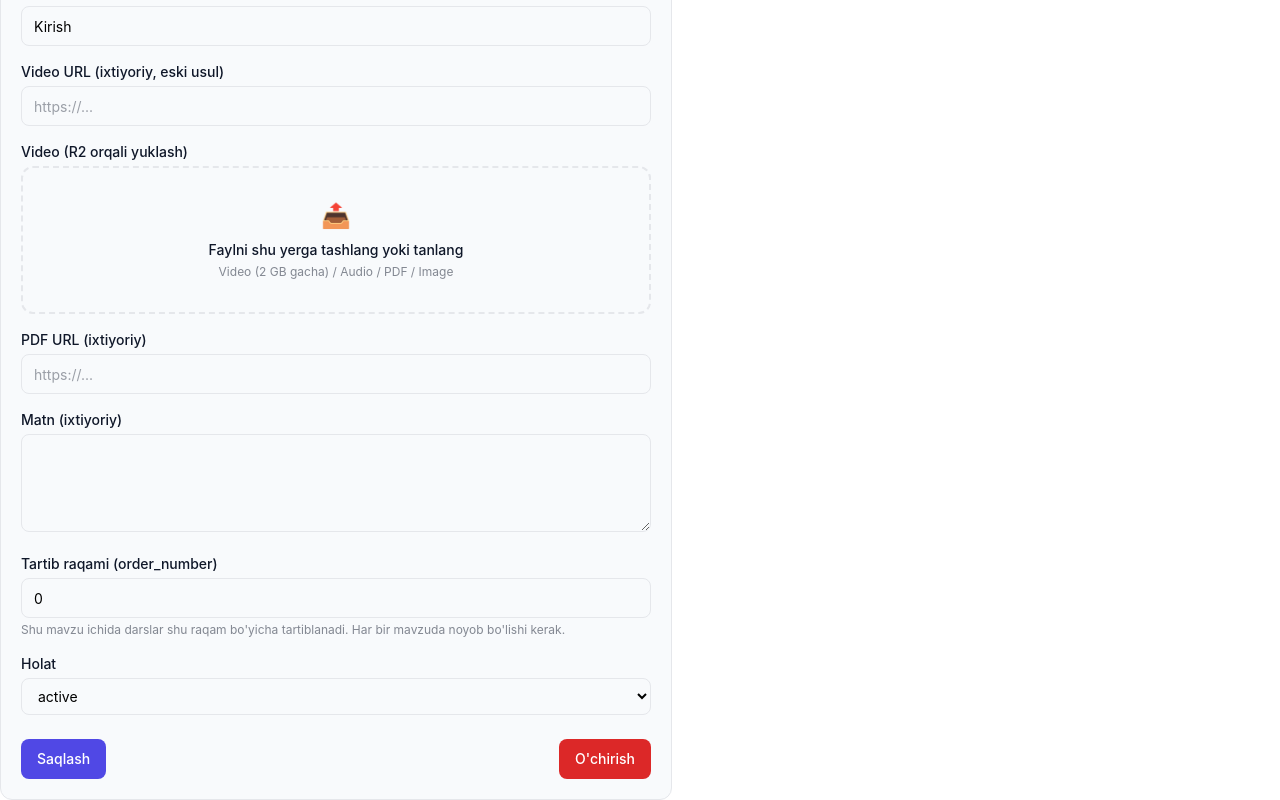
Test: LessonFormPage › approved decision 3: submit is never blocked, but shows the exact required message when video/pdf/content are all empty
(page scrolled)
Click the button "Saqlash" at [64, 759], box [21,739,106,779]
(page scrolled)
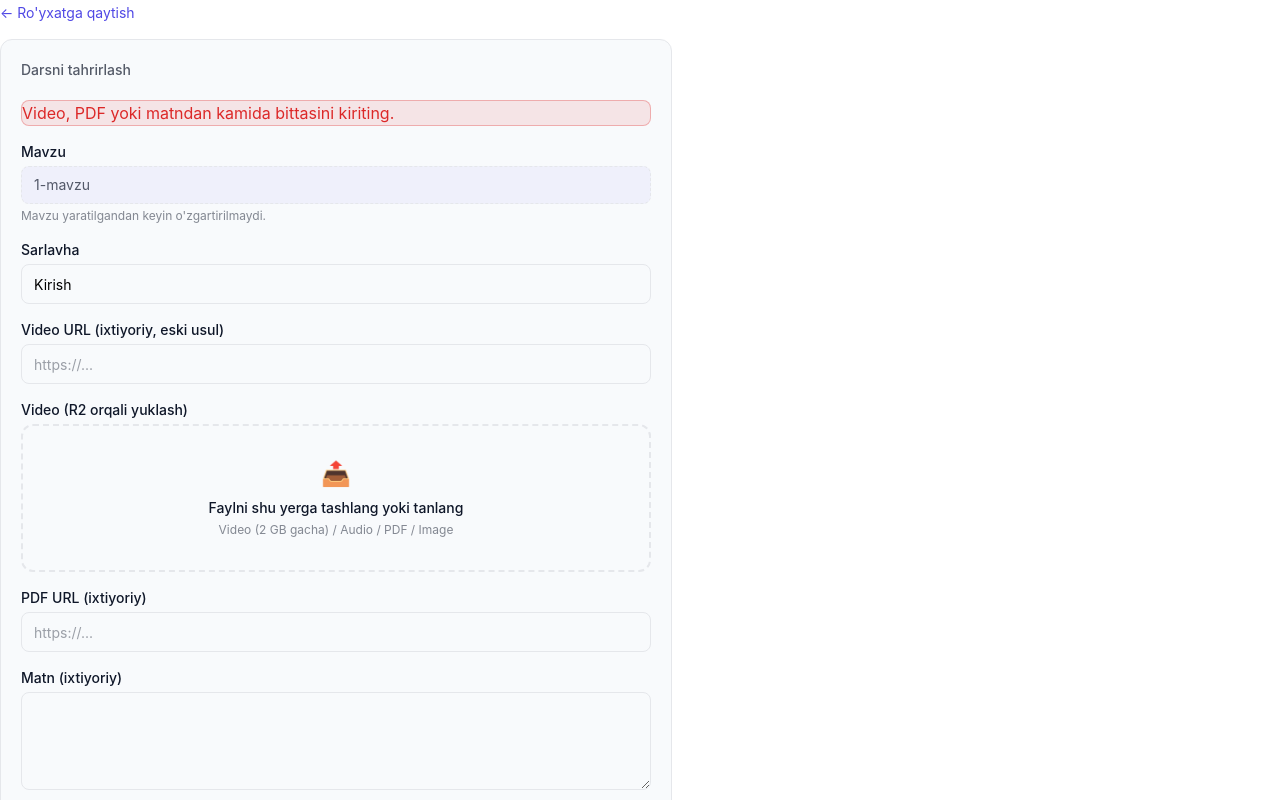
Now the text "Video, PDF yoki matndan kamida bittasini kiriting." is shown, box [21,100,651,126]
